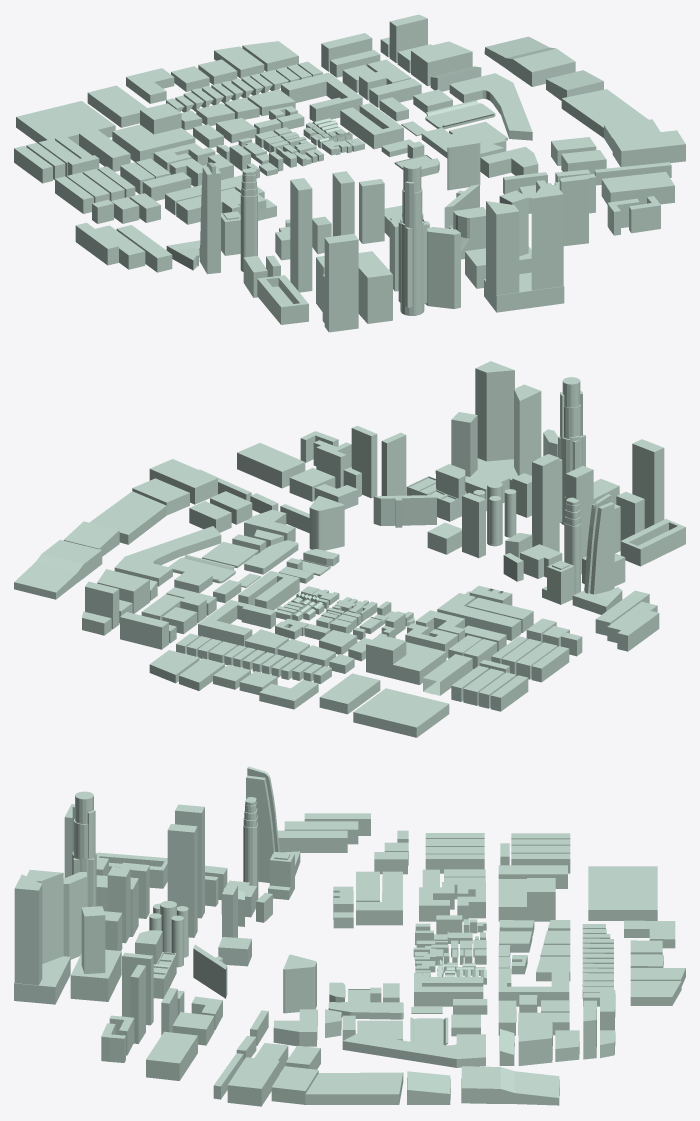
Rendered from buildings.glb.
The picture shows the model from 3 angles, top to bottom: view 1: azimuth 30°, elevation 25°; view 2: azimuth 150°, elevation 25°; view 3: azimuth 270°, elevation 25°; orthographic projection. The views are drawn at different scales.
Parts seen in each view (by area): view 1: transparent buildings newbake; view 2: transparent buildings newbake; view 3: transparent buildings newbake.
Boxes of the visible parts, x1,y1,x2,y2 form: transparent buildings newbake: (14, 14, 685, 332); transparent buildings newbake: (14, 361, 685, 737); transparent buildings newbake: (14, 766, 685, 1106).
Bounding box in the file's own units: 80.15 × 20.58 × 82.54.
1 material, 1 textured.
